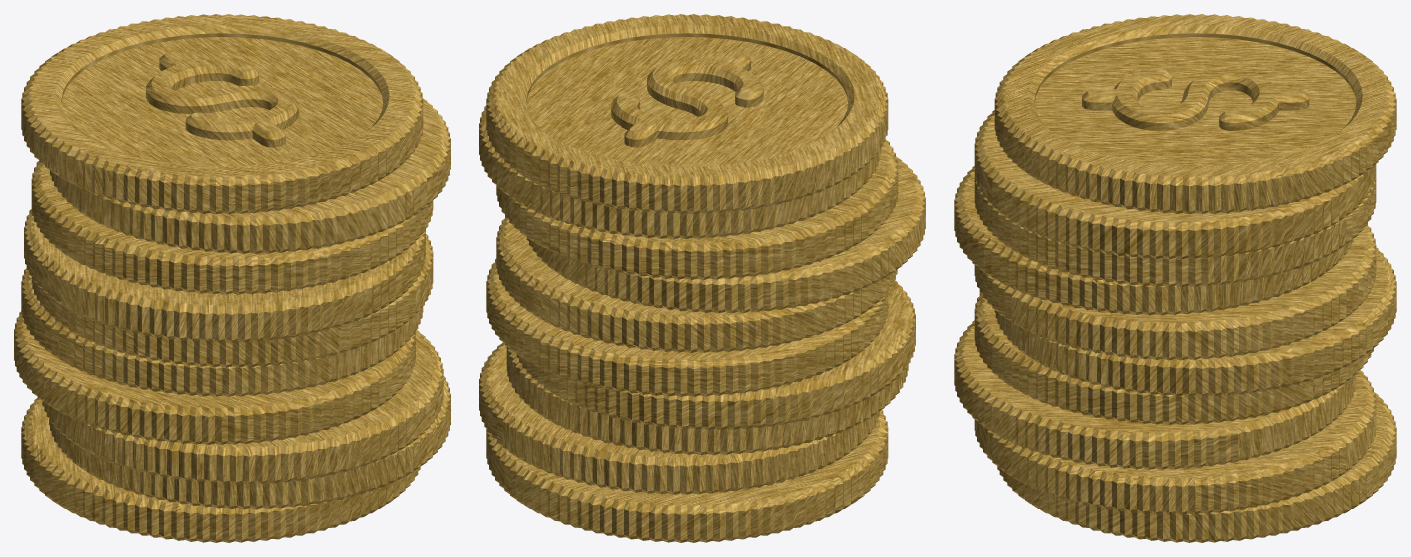
3 views of the same model, side by side, from view 1: azimuth 30°, elevation 25°; view 2: azimuth 150°, elevation 25°; view 3: azimuth 270°, elevation 25° (orthographic).
Parts seen in each view (by area): view 1: Coins; view 2: Coins; view 3: Coins.
Boxes of the visible parts, <box> form: Coins: <box>14,14,450,542</box>; Coins: <box>479,14,925,542</box>; Coins: <box>954,14,1396,542</box>.
Bounding box in the file's own units: 0.022 × 0.0204 × 0.022.
1 material, 1 textured.
